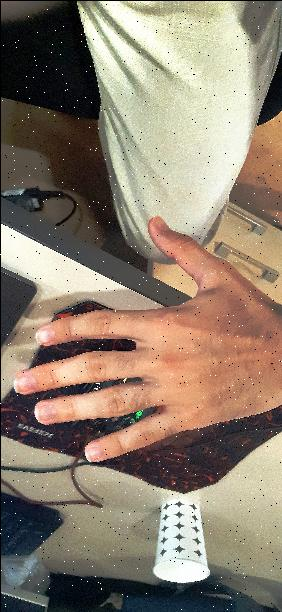Paper: (11, 211, 282, 463)
